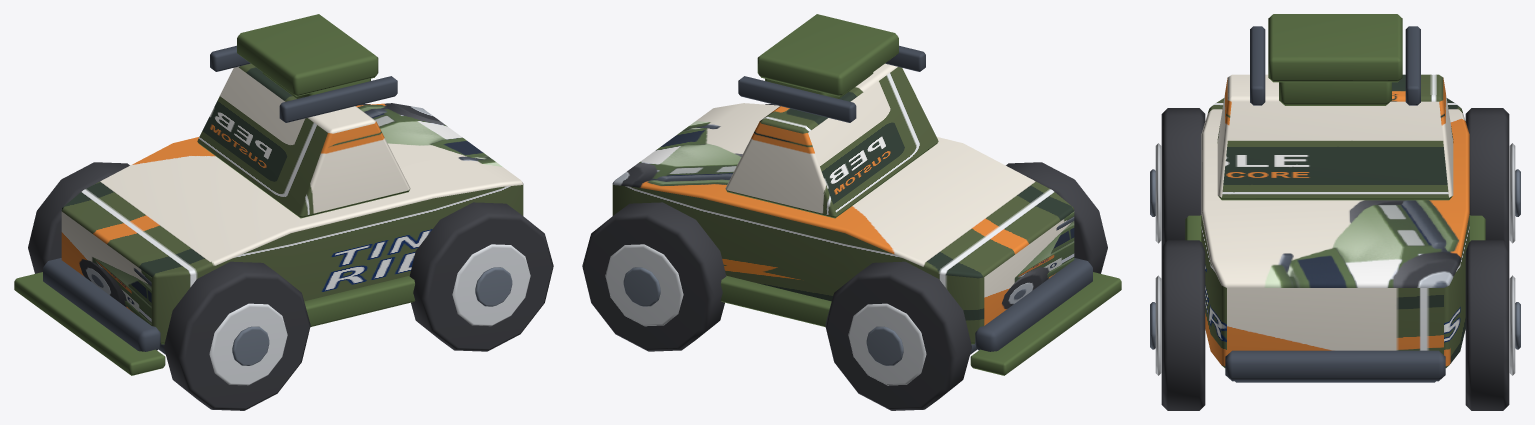
3 renders of one model, left to right at view 1: azimuth 30°, elevation 25°; view 2: azimuth 150°, elevation 25°; view 3: azimuth 270°, elevation 25°, orthographic. The views are drawn at different scales.
Parts seen in each view (by area): view 1: DP-01_connected_shell, DP-01_cabin, Tire, Tire.002, utility load, custom chin, front bumper, Rim, Rim.002, Tire.001, custom side guard, utility rail (+3 smaller); view 2: DP-01_connected_shell, DP-01_cabin, Tire.001, Tire.003, utility load, custom chin, front bumper, Rim.001, Rim.003, Tire, custom side guard.001, utility rail.001 (+3 smaller); view 3: DP-01_connected_shell, DP-01_cabin, utility load, Tire.002, Tire.003, rear bumper, Tire, Tire.001, custom equipment, utility rail, utility rail.001, Rim (+6 smaller).
Part boxes in pixels (x1,y1,x2,y2): DP-01_connected_shell: [61, 103, 523, 344]; DP-01_cabin: [197, 63, 410, 218]; Tire: [164, 261, 310, 410]; Tire.002: [409, 202, 553, 351]; utility load: [237, 14, 378, 96]; custom chin: [14, 272, 165, 375]; front bumper: [43, 258, 161, 351]; Rim: [209, 303, 287, 385]; Rim.002: [452, 244, 530, 326]; Tire.001: [28, 162, 129, 273]; custom side guard: [304, 275, 415, 326]; utility rail: [279, 76, 397, 122]; DP-01_connected_shell: [612, 103, 1074, 344]; DP-01_cabin: [725, 63, 938, 218]; Tire.001: [825, 261, 971, 410]; Tire.003: [582, 202, 726, 351]; utility load: [757, 14, 898, 96]; custom chin: [970, 272, 1121, 375]; front bumper: [974, 258, 1092, 351]; Rim.001: [848, 303, 926, 385]; Rim.003: [605, 244, 683, 326]; Tire: [1006, 162, 1107, 273]; custom side guard.001: [720, 275, 831, 326]; utility rail.001: [738, 76, 856, 122]; DP-01_connected_shell: [1201, 98, 1469, 367]; DP-01_cabin: [1217, 74, 1453, 200]; utility load: [1268, 14, 1402, 82]; Tire.002: [1161, 240, 1205, 410]; Tire.003: [1465, 240, 1509, 410]; rear bumper: [1225, 350, 1445, 381]; Tire: [1161, 108, 1205, 246]; Tire.001: [1465, 108, 1509, 246]; custom equipment: [1279, 82, 1391, 105]; utility rail: [1250, 26, 1265, 105]; utility rail.001: [1405, 26, 1420, 105]; Rim: [1155, 143, 1161, 243].
Bounding box in the file's own units: 320 × 205 × 221.
